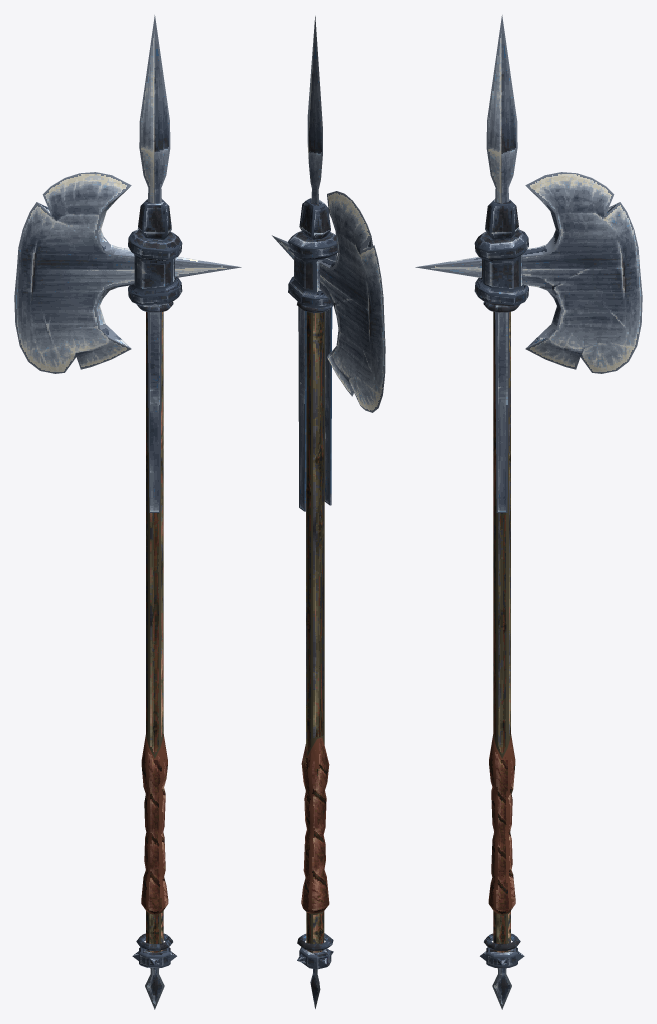
The model's file is gravewarden_halberd.glb.
3 views of the same model, side by side, from view 1: azimuth 90°, elevation 25°; view 2: azimuth 210°, elevation 25°; view 3: azimuth 270°, elevation 25° (orthographic).
Parts seen in each view (by area): view 1: gravewarden_halberd; view 2: gravewarden_halberd; view 3: gravewarden_halberd.
Part boxes in pixels (<box>): gravewarden_halberd: <box>14,15,241,1009</box>; gravewarden_halberd: <box>272,16,385,1008</box>; gravewarden_halberd: <box>415,15,642,1009</box>.
Bounding box in the file's own units: 0.0589 × 1.38 × 0.2878.
Materials: 1 (1 with a texture image).
